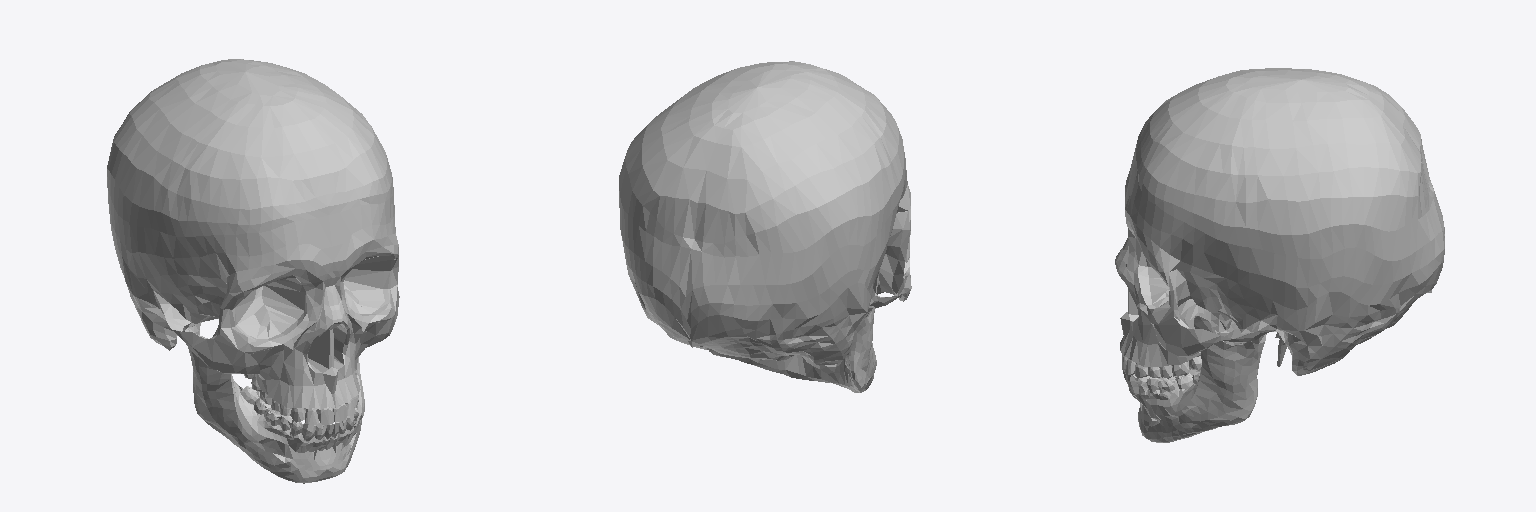
Rendered from skull.obj.
3 renders of one model, left to right at view 1: azimuth 30°, elevation 25°; view 2: azimuth 150°, elevation 25°; view 3: azimuth 270°, elevation 25°, orthographic.
Parts seen in each view (by area): view 1: Galva; view 2: Galva; view 3: Galva.
Part boxes in pixels (x1,y1,x2,y2): Galva: (107,59,399,483); Galva: (619,61,911,392); Galva: (1115,68,1444,442).
Bounding box in the file's own units: 6.2 × 8.85 × 7.51.